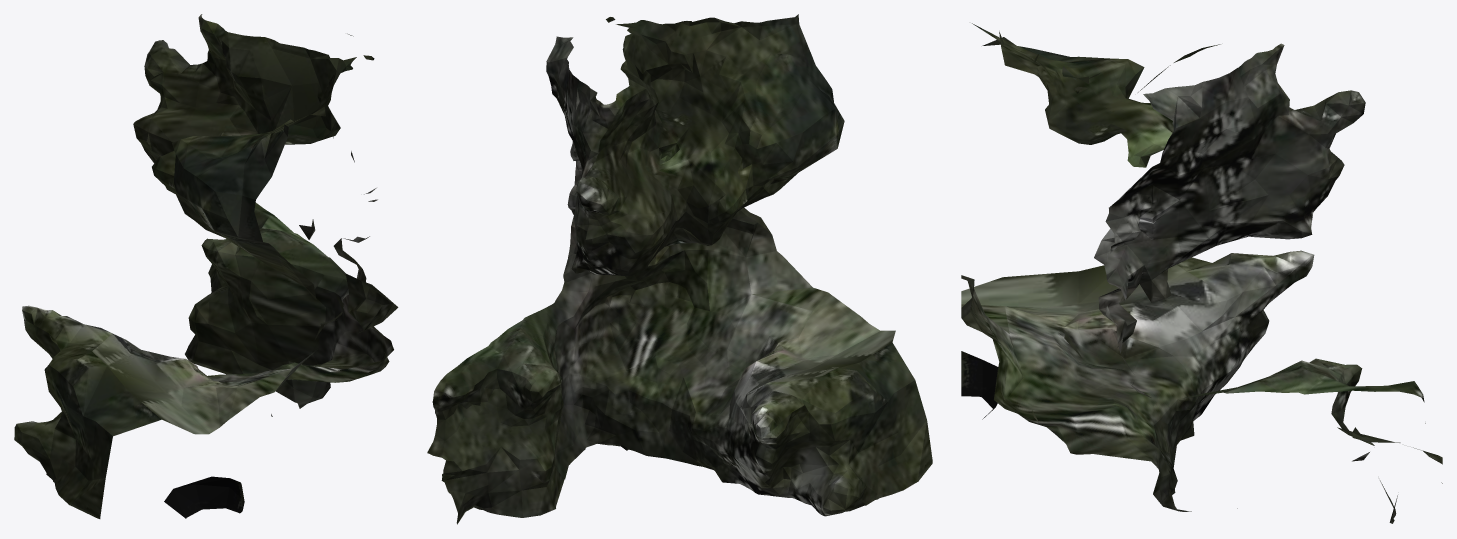
3 views of the same model, side by side, from view 1: azimuth 30°, elevation 25°; view 2: azimuth 150°, elevation 25°; view 3: azimuth 270°, elevation 25° (orthographic). The views are drawn at different scales.
Size of the model in its own units: 3.01 by 3.35 by 3.35.
Materials: 5 (5 with a texture image).
